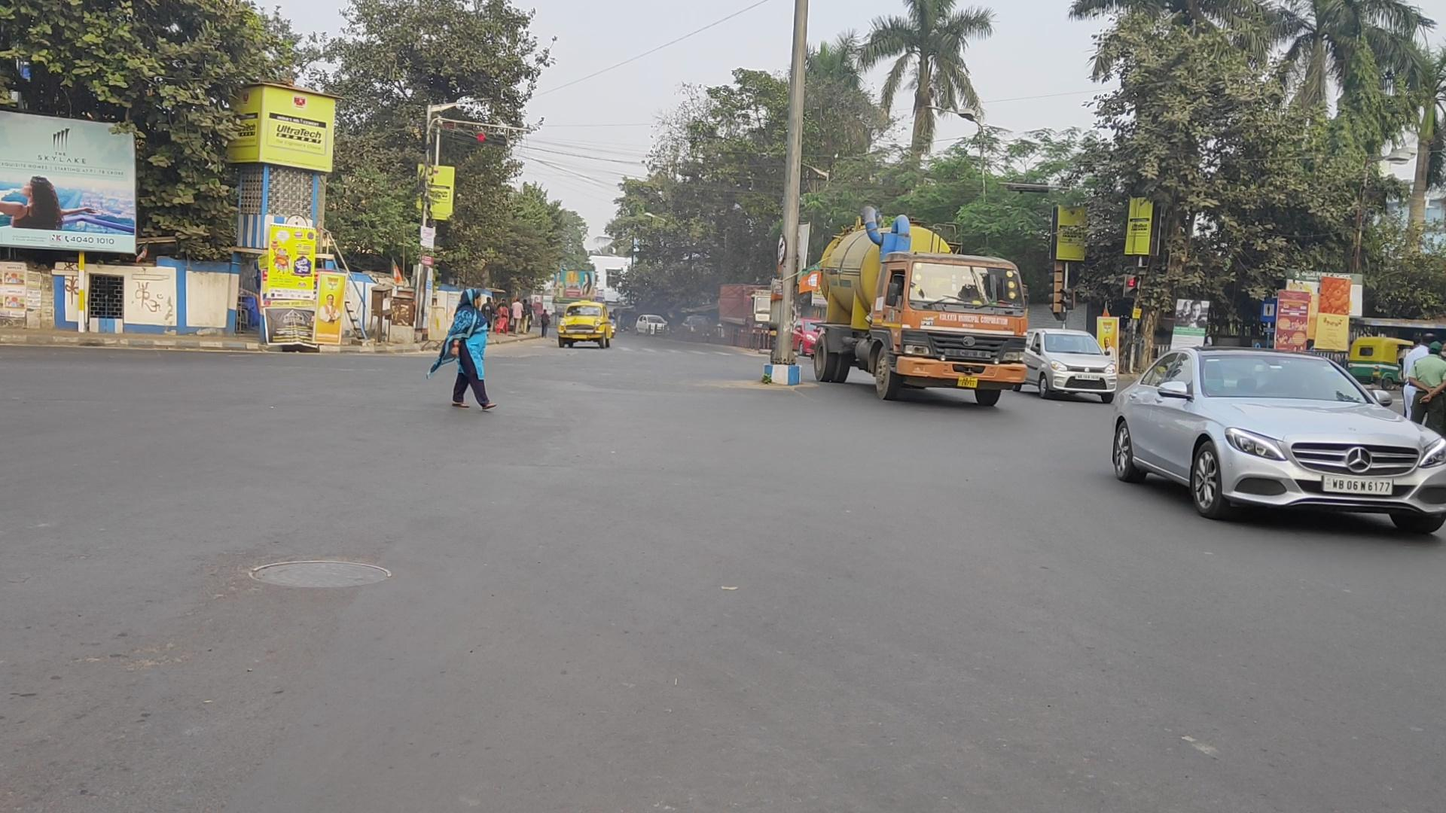Auto: (1347, 336, 1418, 391)
car: (1112, 346, 1446, 533), (1027, 327, 1117, 403), (557, 299, 612, 349), (790, 318, 824, 358), (635, 314, 669, 336)
truck: (814, 206, 1029, 407), (716, 284, 774, 345)
